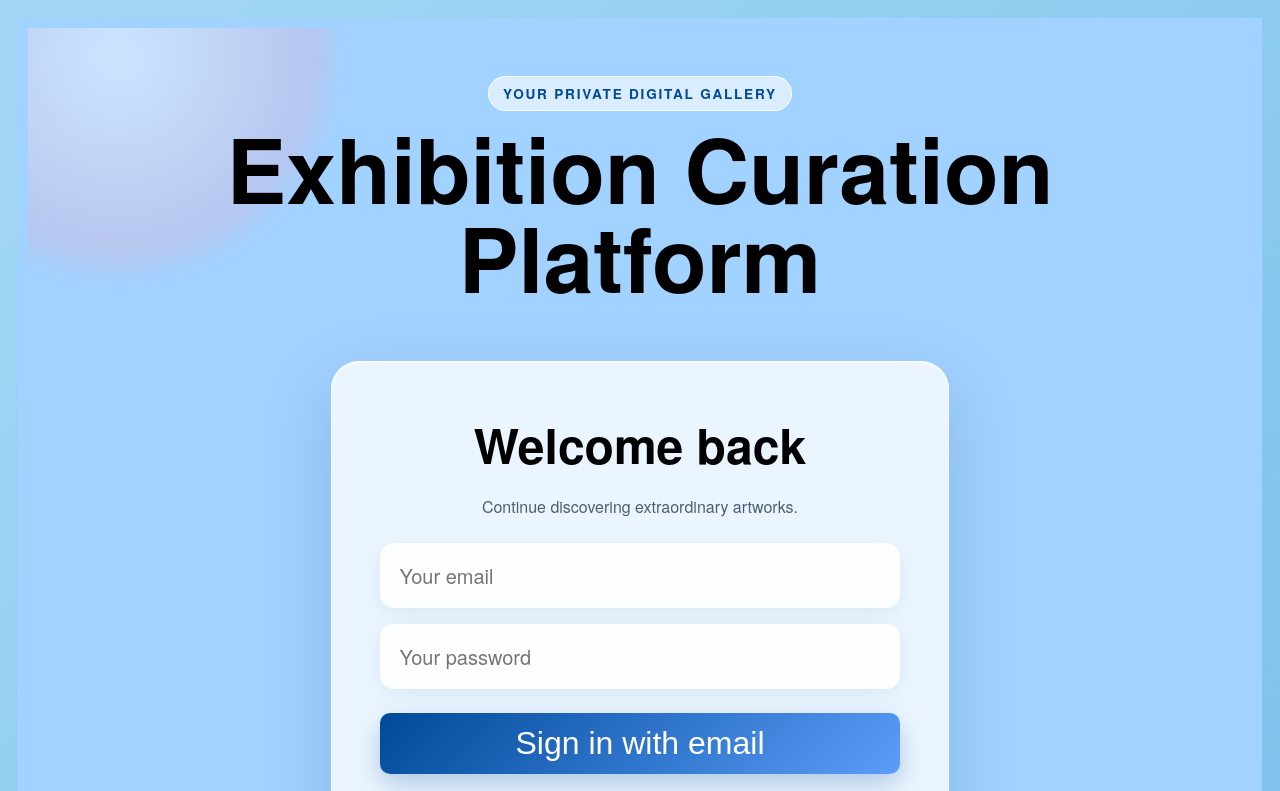
Test: Test set for UserLogin › Test 6 => Must unable the button and show test of loading while is been sent
Type "test@example.com" into the field with placeholder "Your email" at (640, 576), box [380, 543, 900, 608]
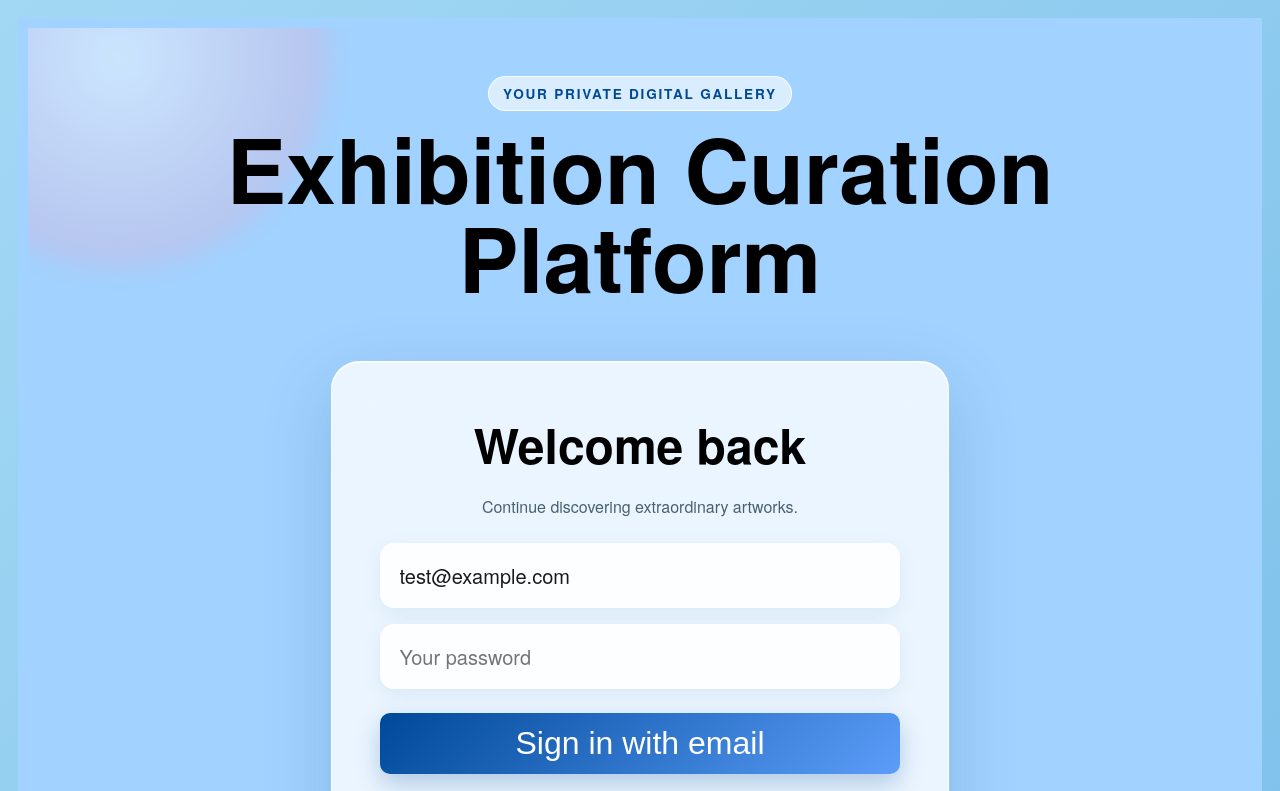
Type "password123" into the password field with placeholder "Your password" at (640, 657), box [380, 624, 900, 689]
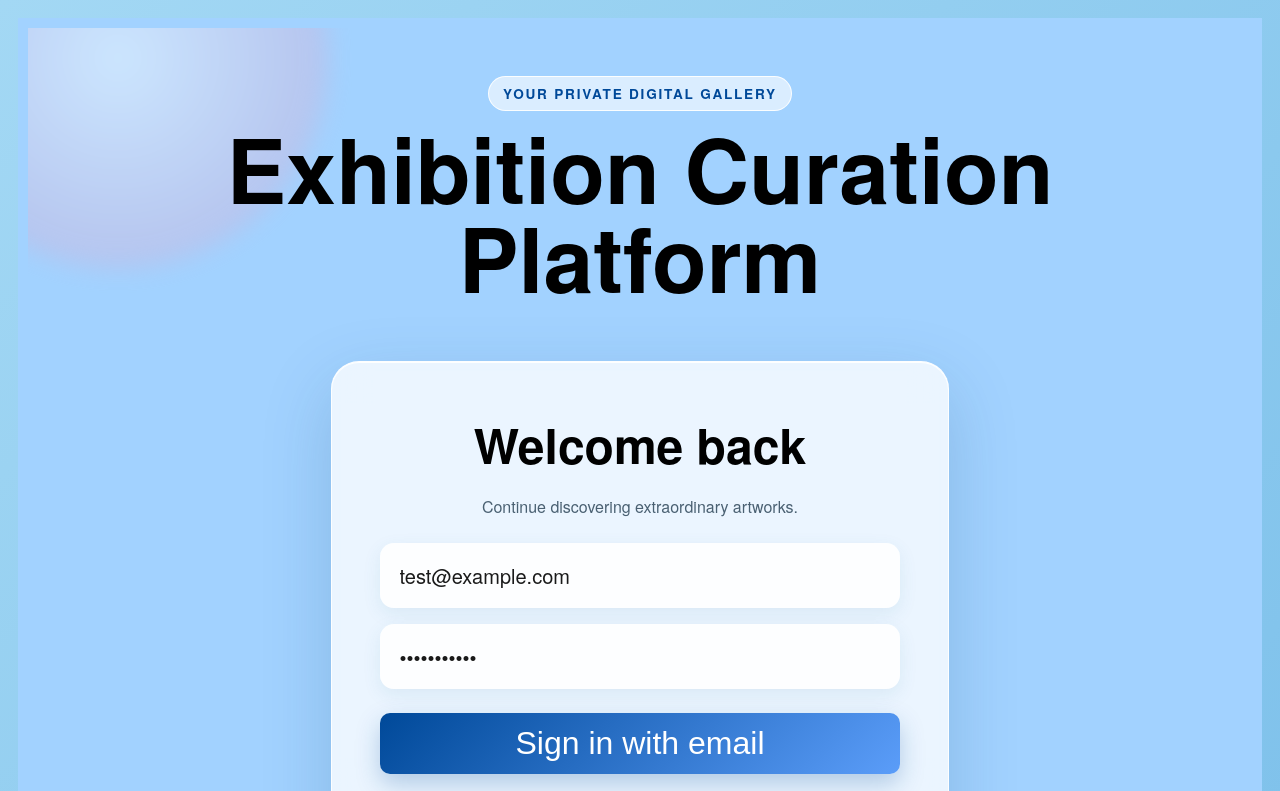
Click the button "Sign in with email" at (640, 744), box [380, 713, 900, 774]
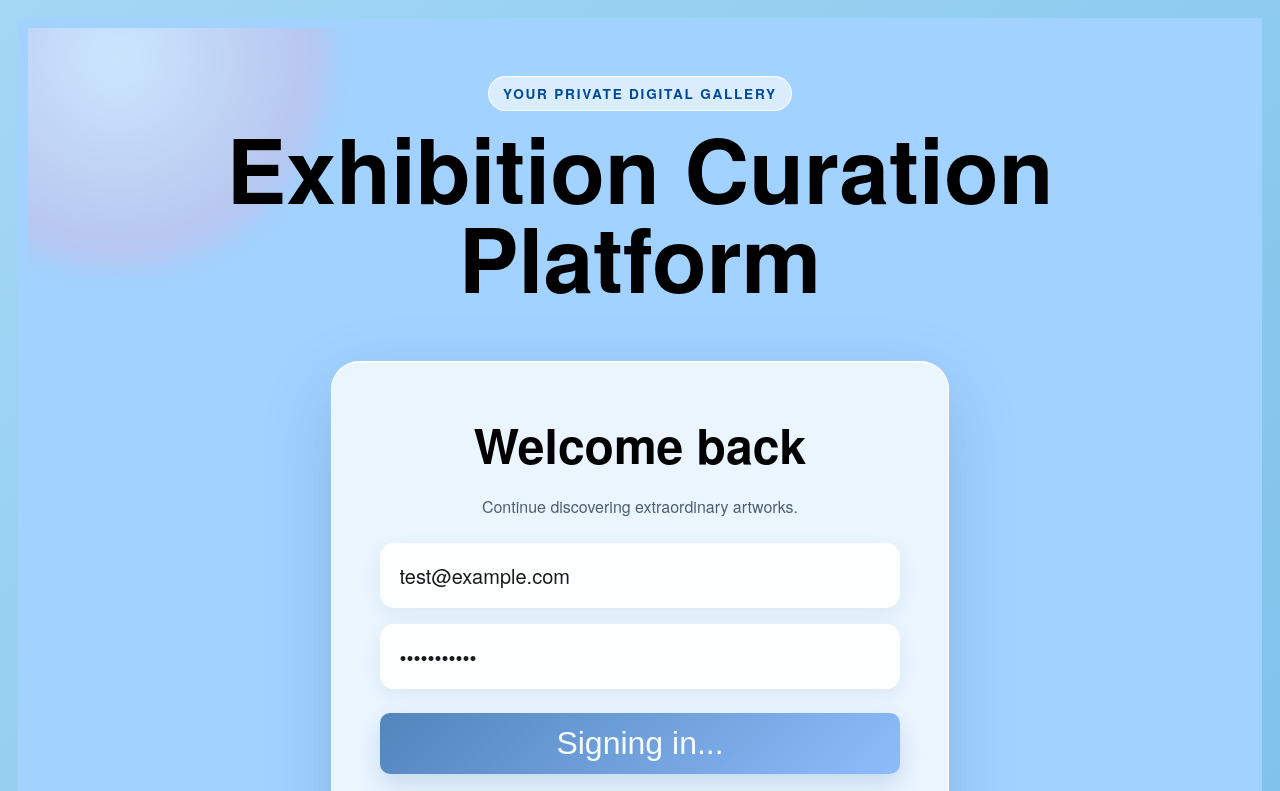
Now the button named "sign in with email" is disabled, box [380, 713, 900, 774]
Now the button named "sign in with email" reads "Signing in...", box [380, 713, 900, 774]
